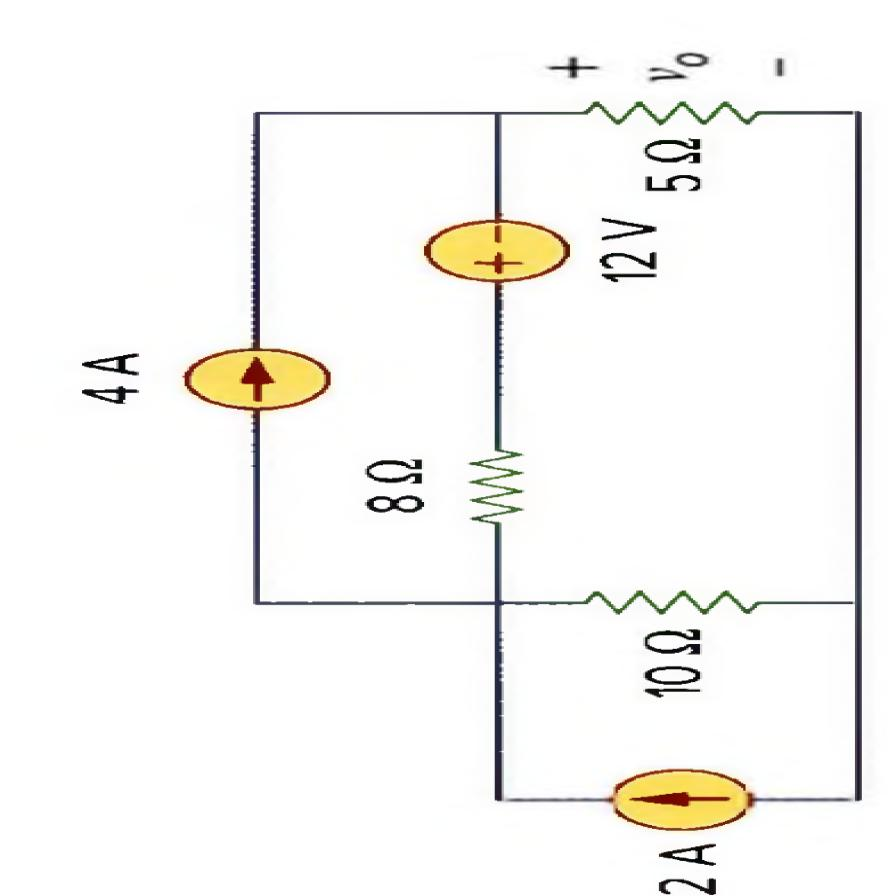I4: (613, 768, 755, 831)
V3: (426, 216, 568, 284)
